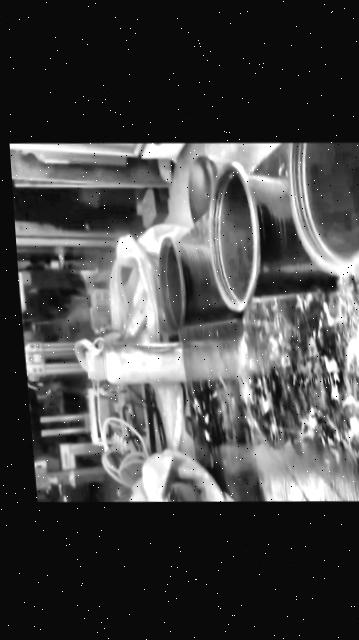pot: (206, 164, 335, 311), (284, 141, 359, 262), (156, 238, 239, 331)
